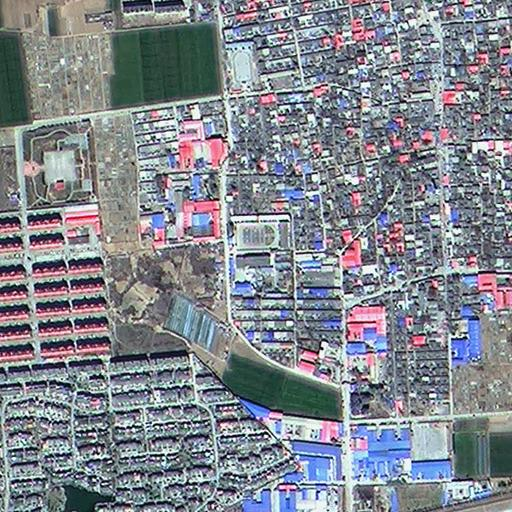school: (229, 212, 293, 292), (221, 40, 258, 91)
